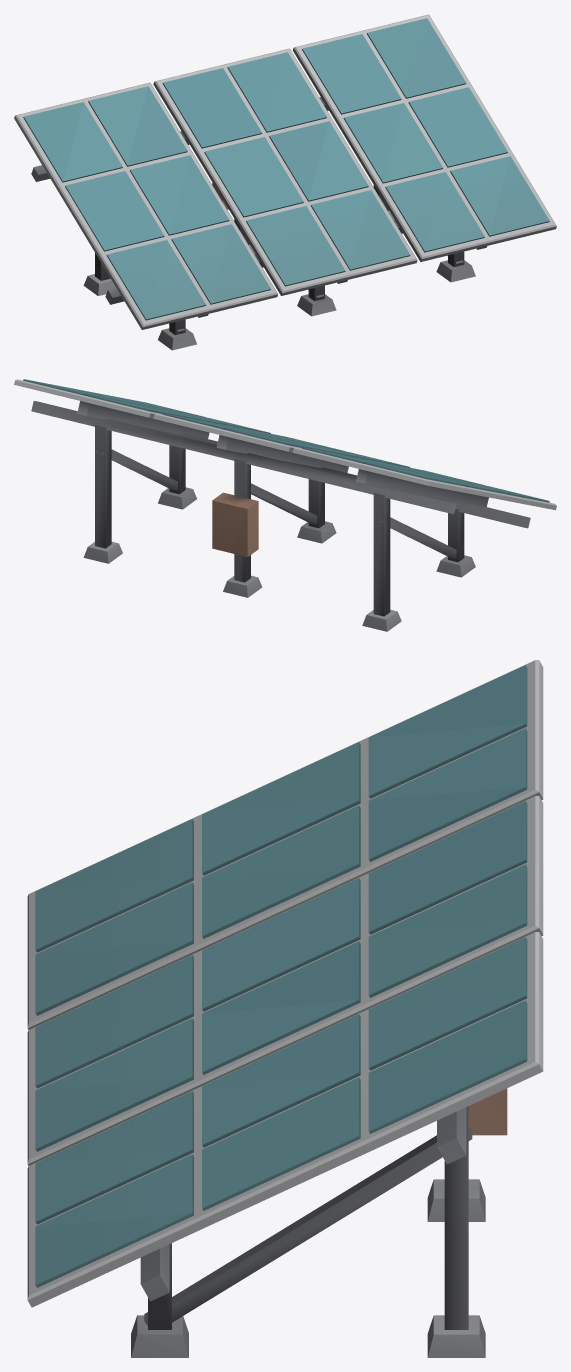
File: solar.glb
3 renders of one model, top to bottom at view 1: azimuth 30°, elevation 25°; view 2: azimuth 150°, elevation 25°; view 3: azimuth 270°, elevation 25°, orthographic. The views are drawn at different scales.
Parts seen in each view (by area): view 1: solar; view 2: solar; view 3: solar.
Boxes of the visible parts, <box> form: solar: <box>14,14,556,350</box>; solar: <box>14,379,556,631</box>; solar: <box>27,660,543,1357</box>.
Size of the model in its own units: 4 by 1.59 by 2.14.
